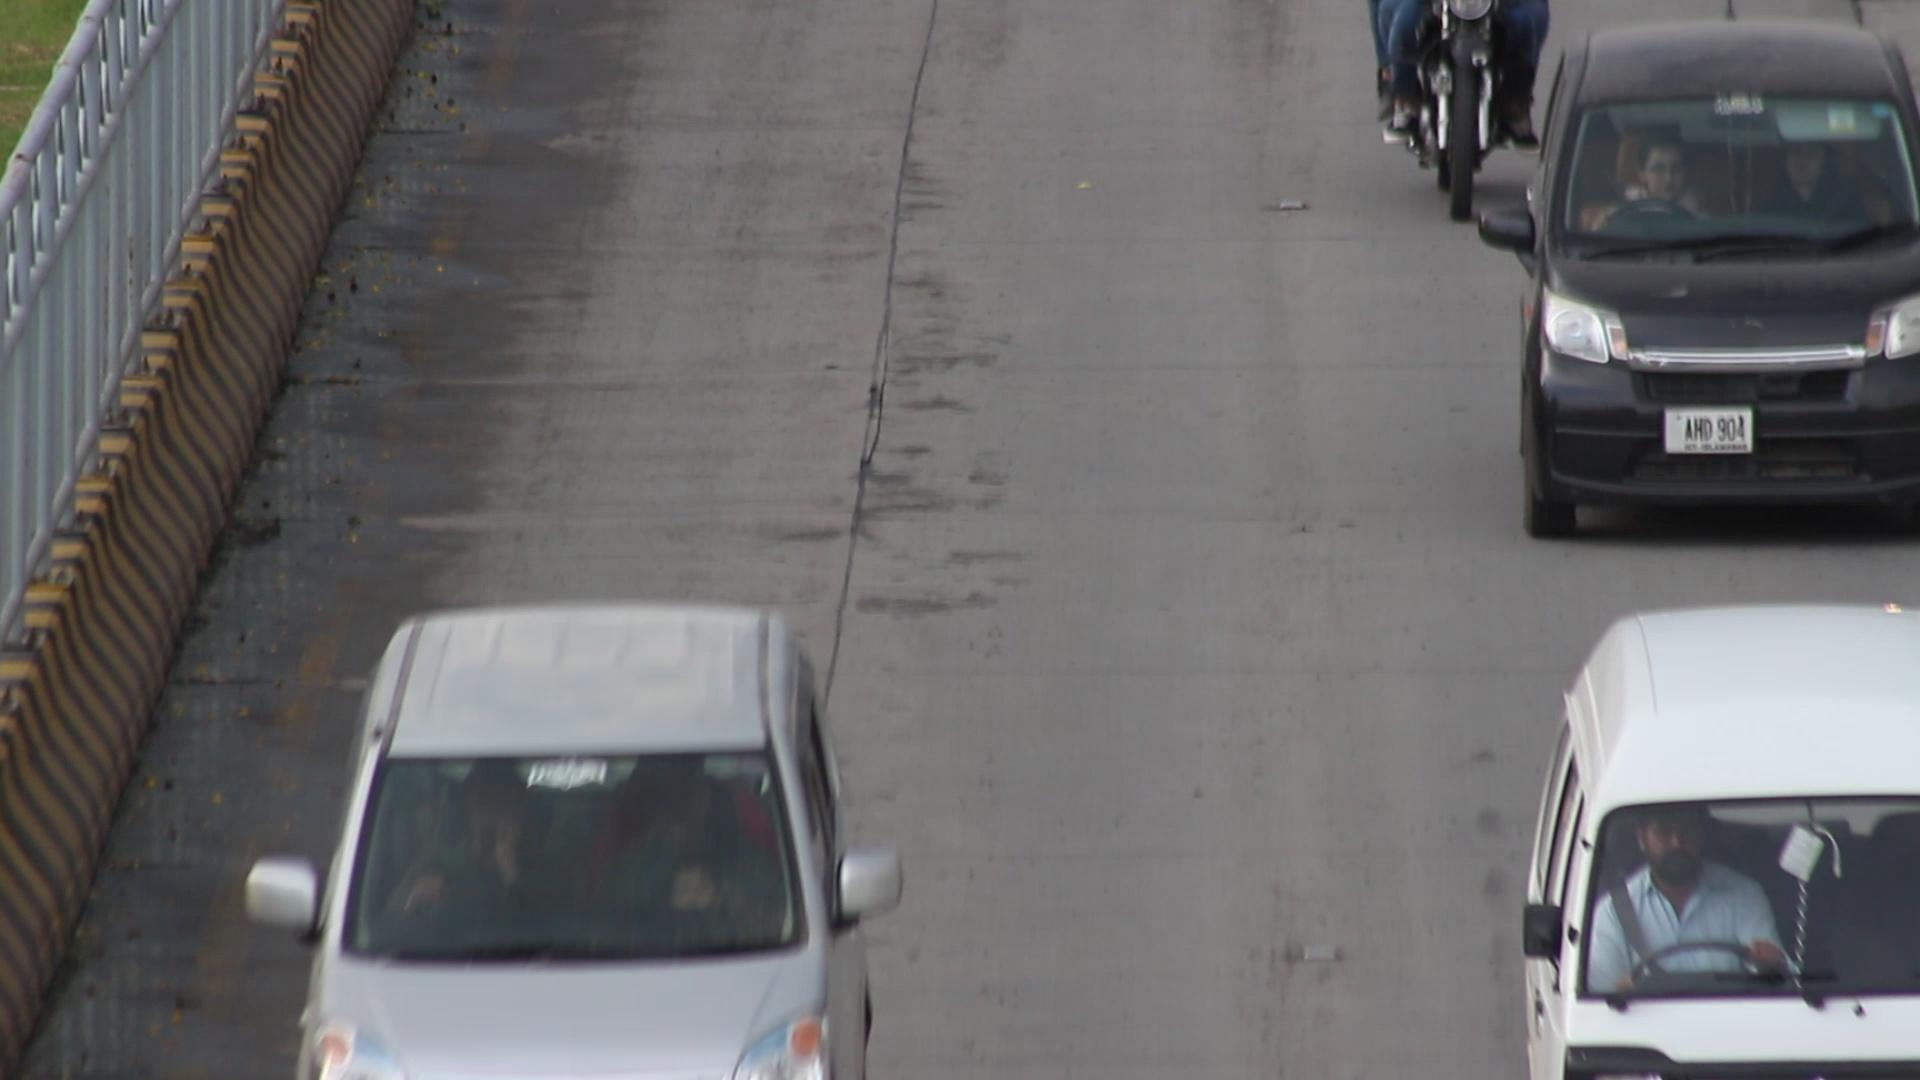windshield: (334, 733, 811, 977), (1547, 83, 1920, 253)
